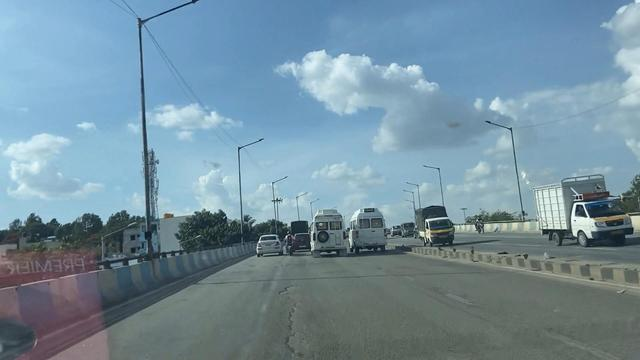HMV: (347, 201, 394, 259), (304, 205, 352, 253)
LMV: (254, 231, 285, 258)
RoadDamages: (261, 275, 371, 360)
